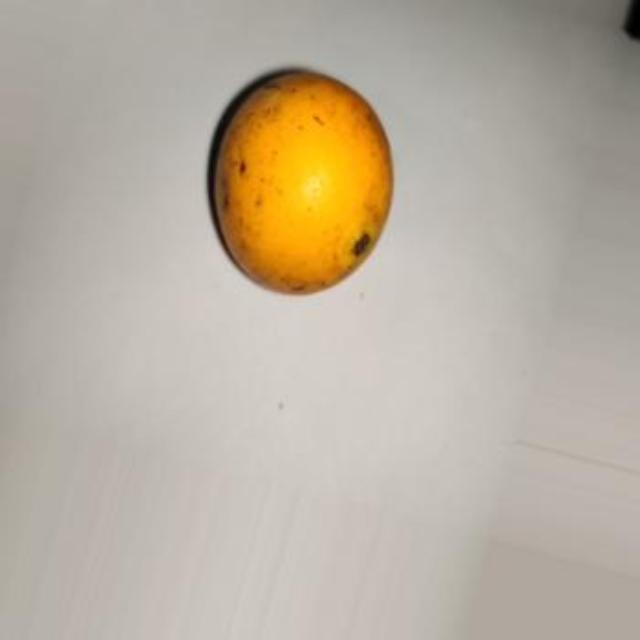good: (208, 69, 395, 298)
